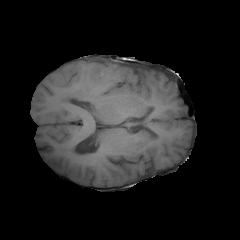glioma: (60, 68, 137, 132)
